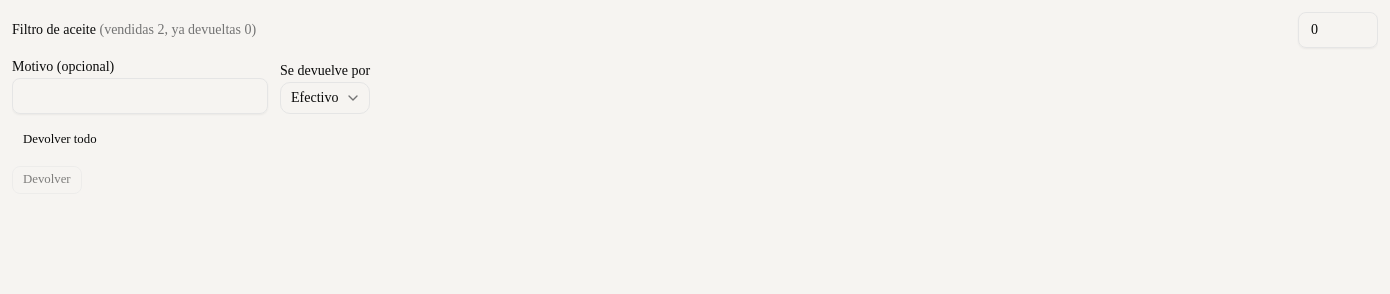
Test case: DevolucionForm › al registrar la devolución vuelve las cantidades a cero y avisa para refrescar
Type "1" into the number field named "Cantidad a devolver de Filtro de aceite" at (1338, 30), box [1298,12,1378,48]
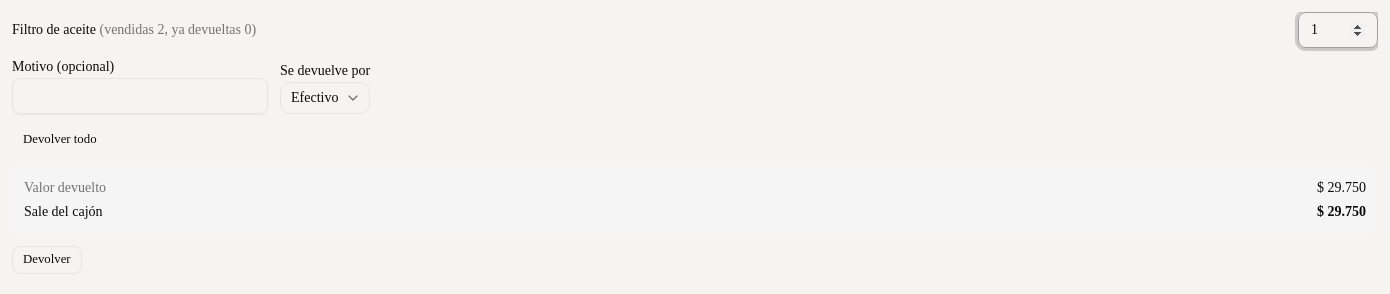
Click the button "Devolver" at (47, 260), box [12,246,82,274]
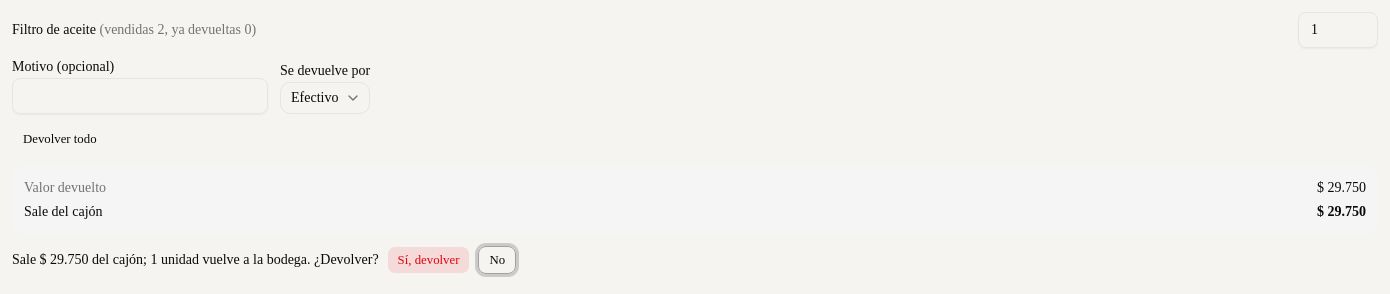
Click the button "Sí, devolver" at (428, 260), box [387,246,470,274]
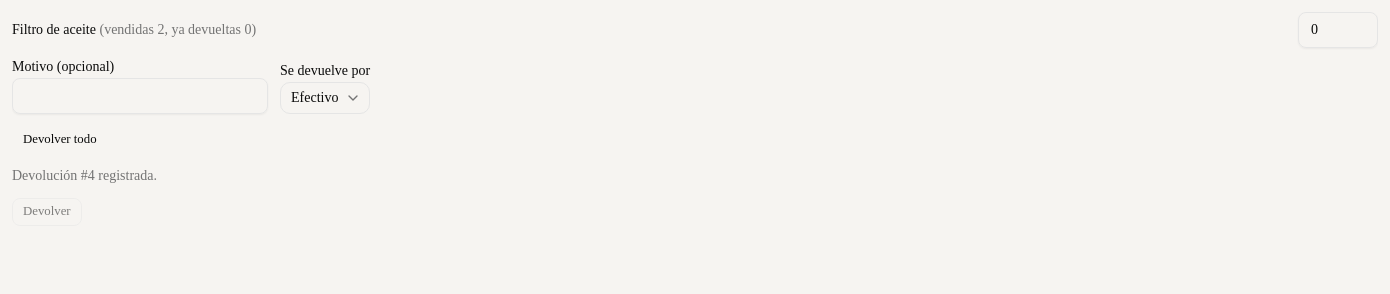
Expected: the button "Devolver" is disabled, [12,198,82,226]
Expected: the text "Devolución #4 registrada." is shown, [12,168,157,183]
Expected: the number field named "Cantidad a devolver de Filtro de aceite" holds "0", [1298,12,1378,48]
